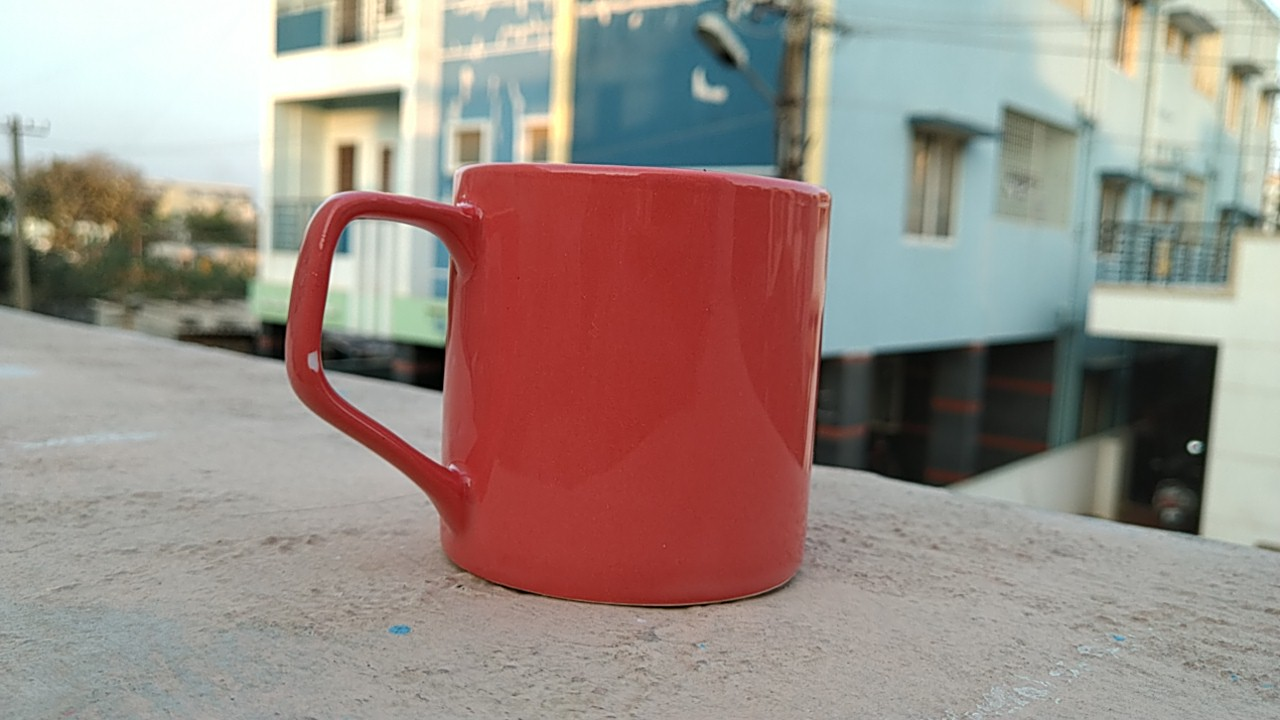cup: (274, 145, 840, 617)
